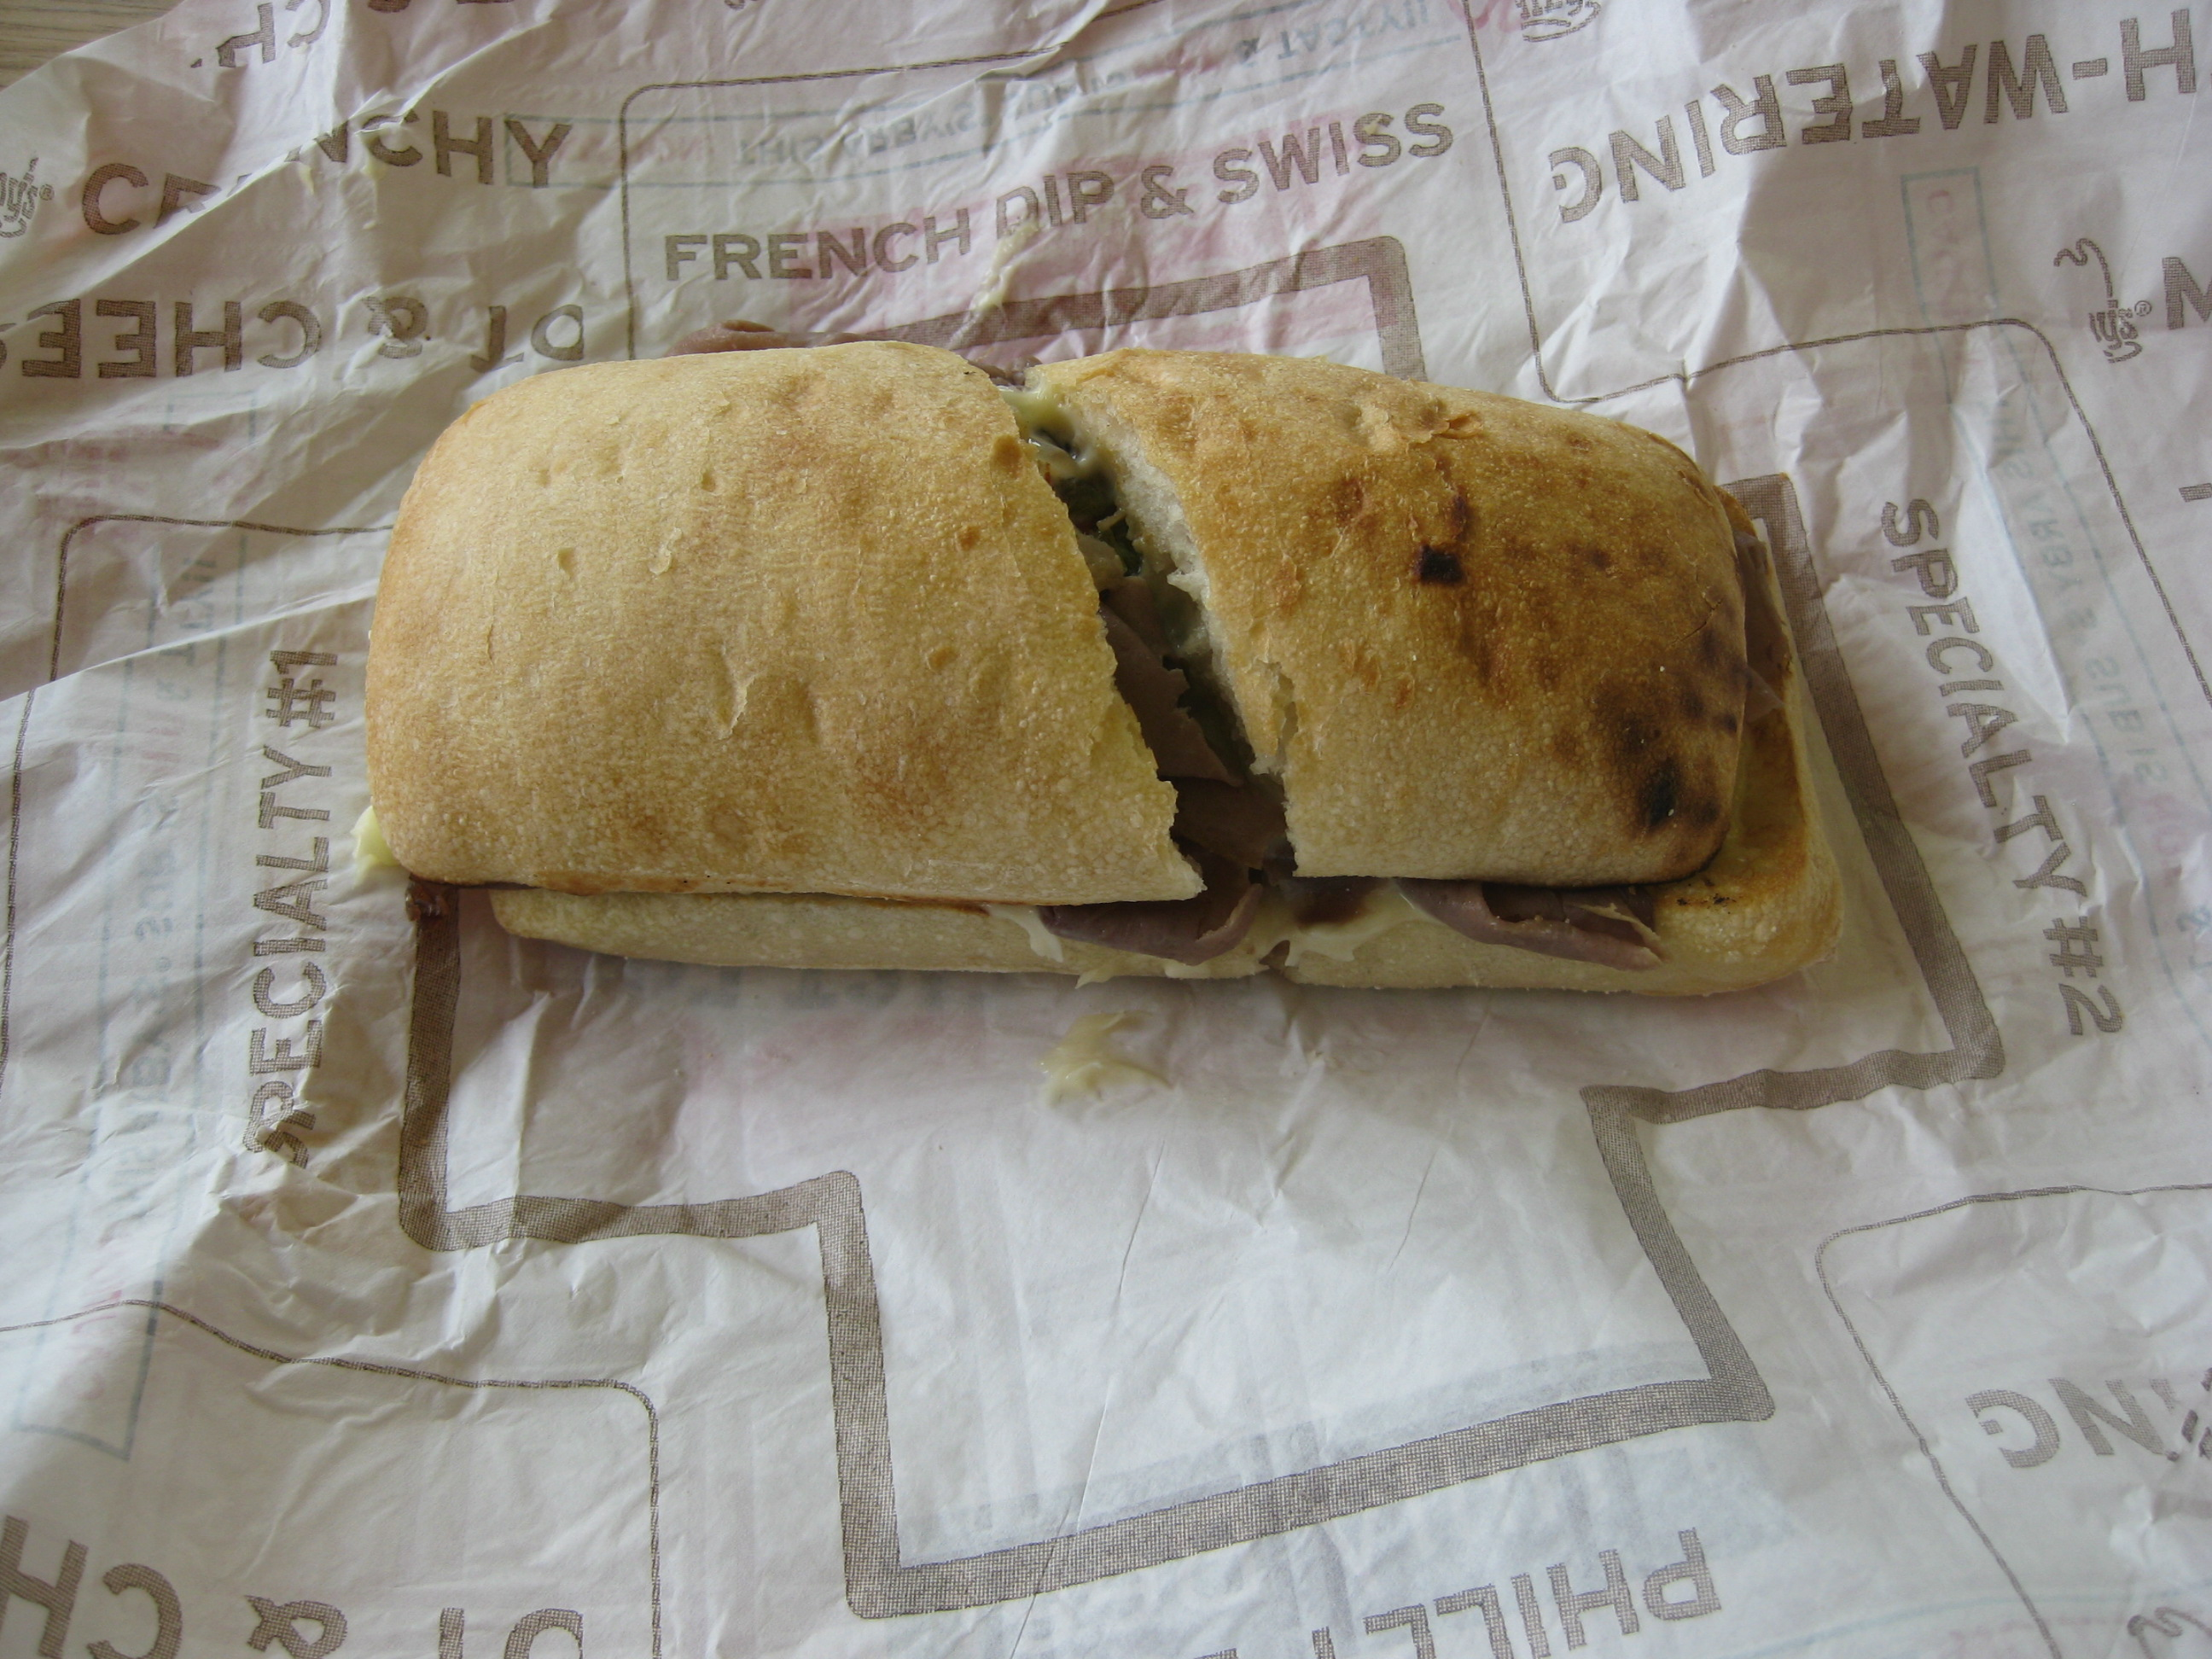sub: (336, 249, 2052, 1034)
